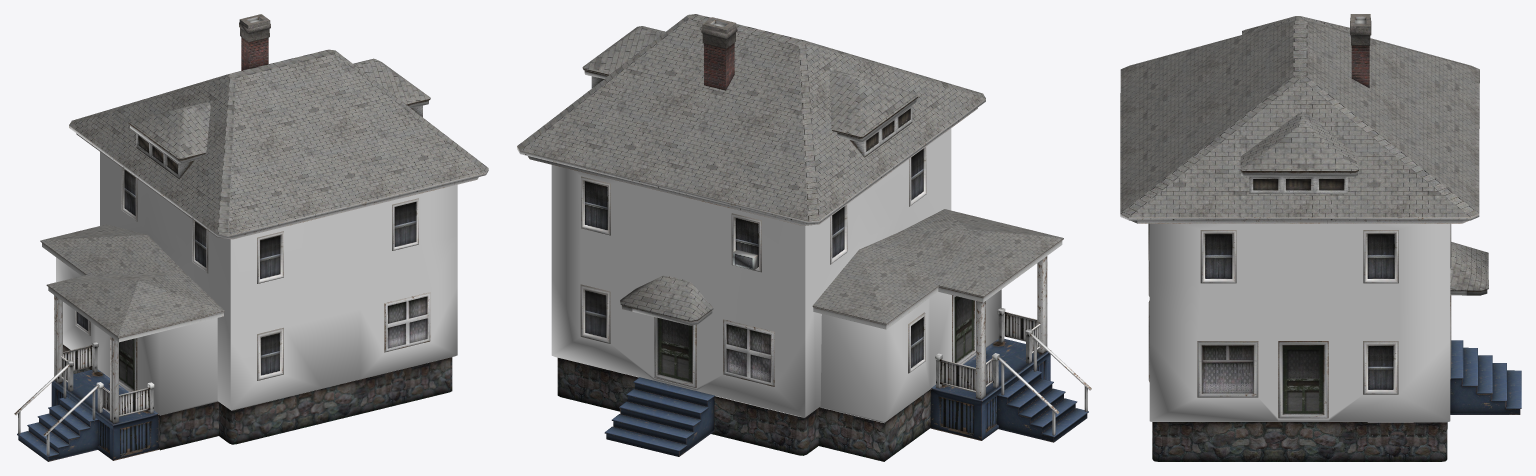
The model's file is HOUSE2.fbx.
3 views of the same model, side by side, from view 1: azimuth 30°, elevation 25°; view 2: azimuth 150°, elevation 25°; view 3: azimuth 270°, elevation 25° (orthographic). The views are drawn at different scales.
Visible parts, largest first — view 1: house; view 2: house; view 3: house.
Boxes of the visible parts, box(x1,y1,x2,y2) form: house: box(14, 14, 488, 461); house: box(517, 14, 1091, 461); house: box(1120, 14, 1521, 461).
Bounding box in the file's own units: 520 × 408 × 389.
3 materials, 2 textured.
